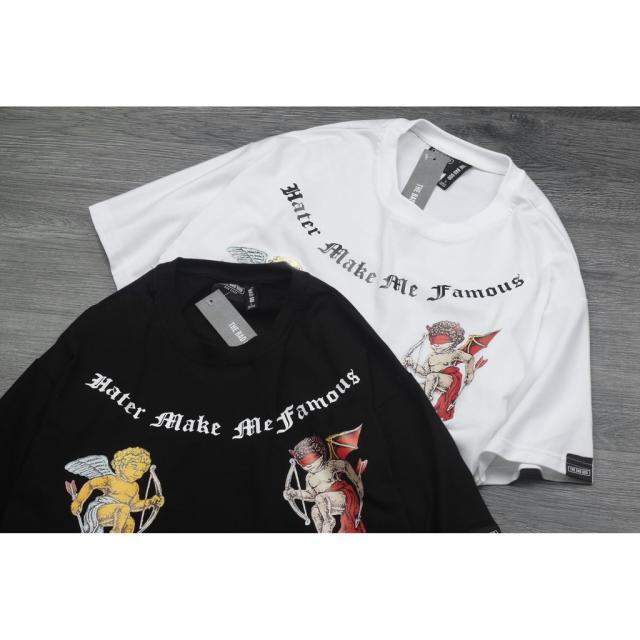Shirt: (91, 113, 598, 489), (0, 258, 502, 535)
